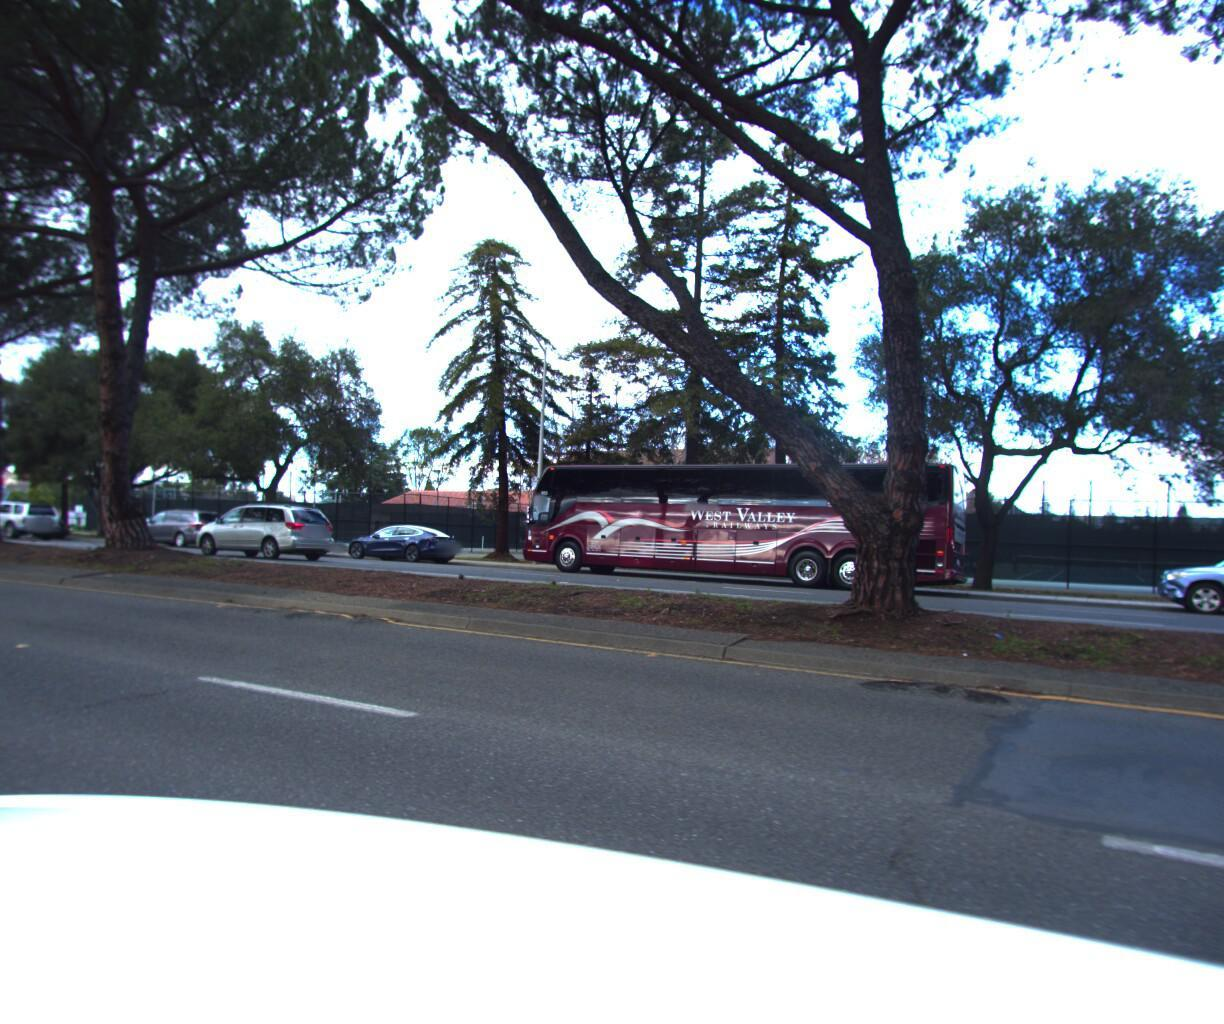bus: (508, 449, 976, 598)
car: (186, 497, 341, 559), (1148, 532, 1224, 626), (335, 517, 462, 564), (122, 503, 232, 546), (0, 492, 64, 534), (0, 504, 73, 535)
